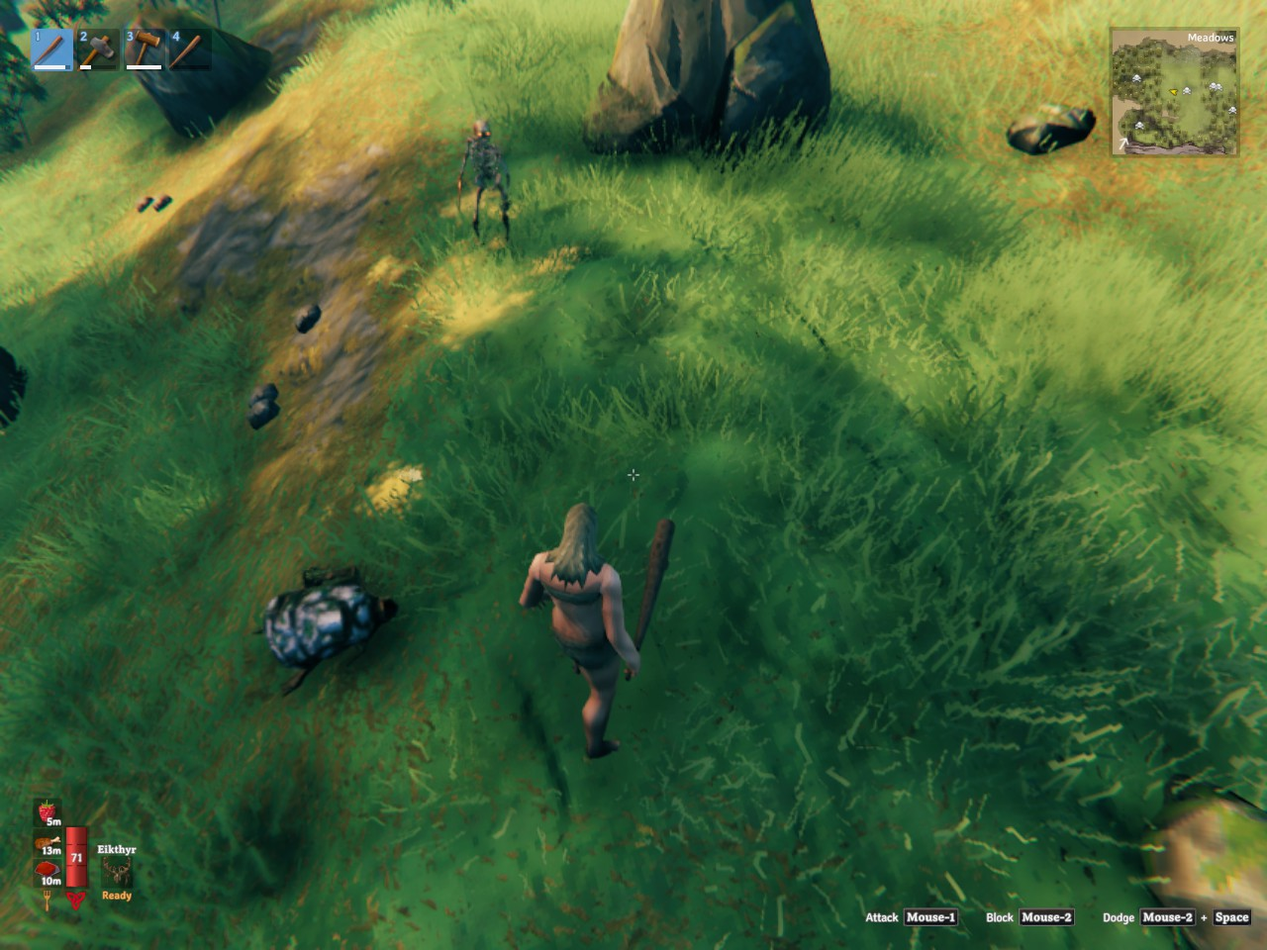Club: (634, 520, 674, 651)
Food Indicator: (36, 797, 63, 891)
Greyling: (253, 567, 397, 694)
Health Bar: (63, 820, 90, 891)
Hotbar: (25, 21, 398, 78)
Skeleton: (458, 120, 509, 237)
Stone: (247, 401, 279, 428), (295, 304, 321, 332), (250, 383, 277, 403), (152, 194, 172, 212), (136, 196, 153, 212)
